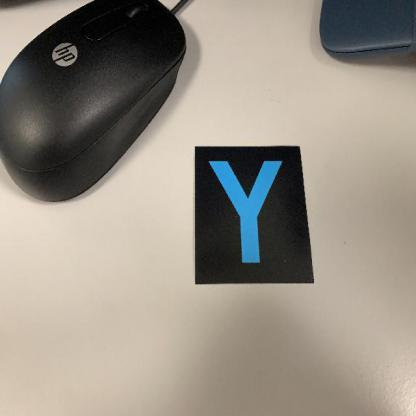y: (194, 146, 316, 285)
